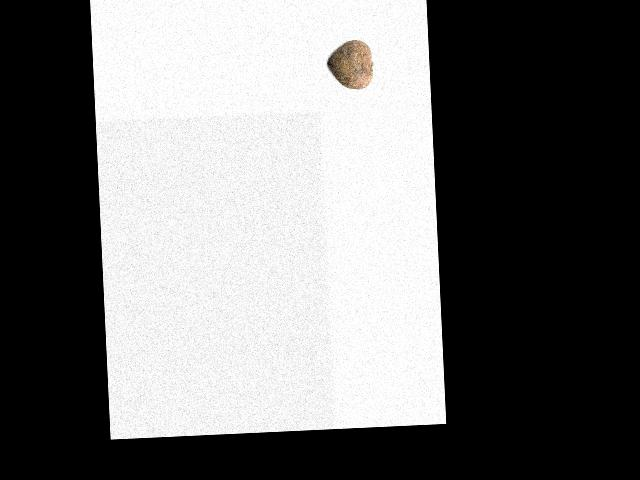beet: (326, 39, 373, 91)
